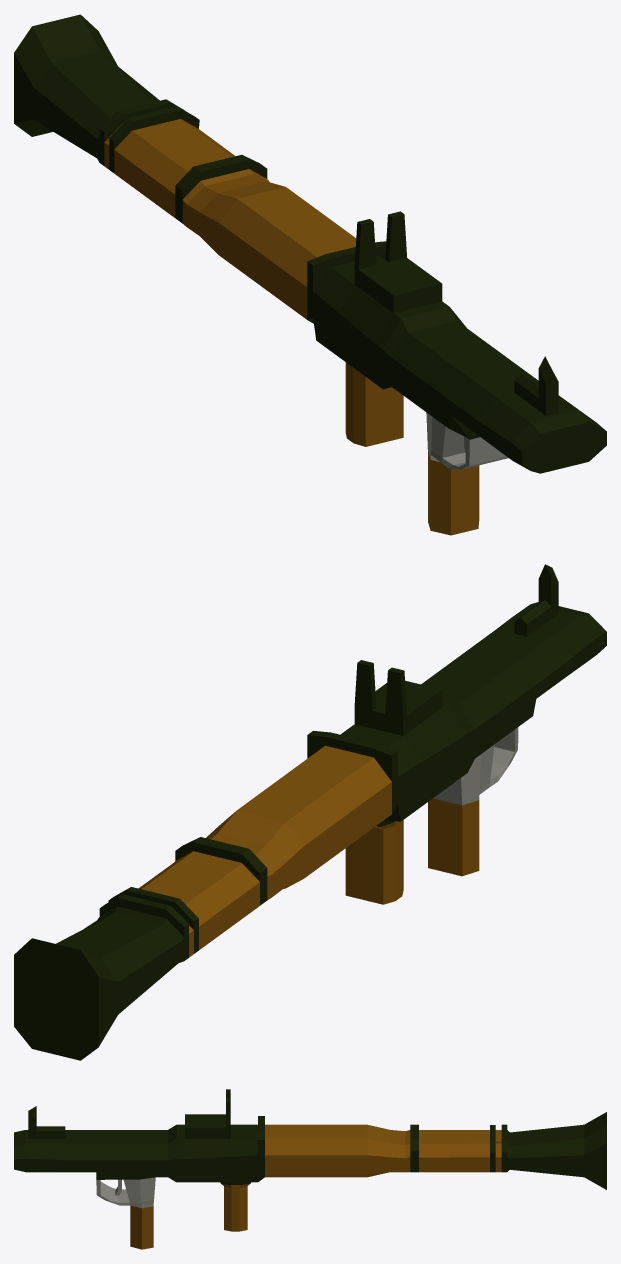
The model's file is RPG.fbx.
3 views of the same model, one above another, from view 1: azimuth 30°, elevation 25°; view 2: azimuth 150°, elevation 25°; view 3: azimuth 270°, elevation 25° (orthographic). The views are drawn at different scales.
Visible parts, largest first — view 1: RPG7; view 2: RPG7; view 3: RPG7.
Boxes of the visible parts, x1,y1,x2,y2 form: RPG7: (14,14,606,535); RPG7: (14,564,606,1060); RPG7: (14,1089,606,1249).
Size of the model in its own units: 202 by 2080 by 570.
